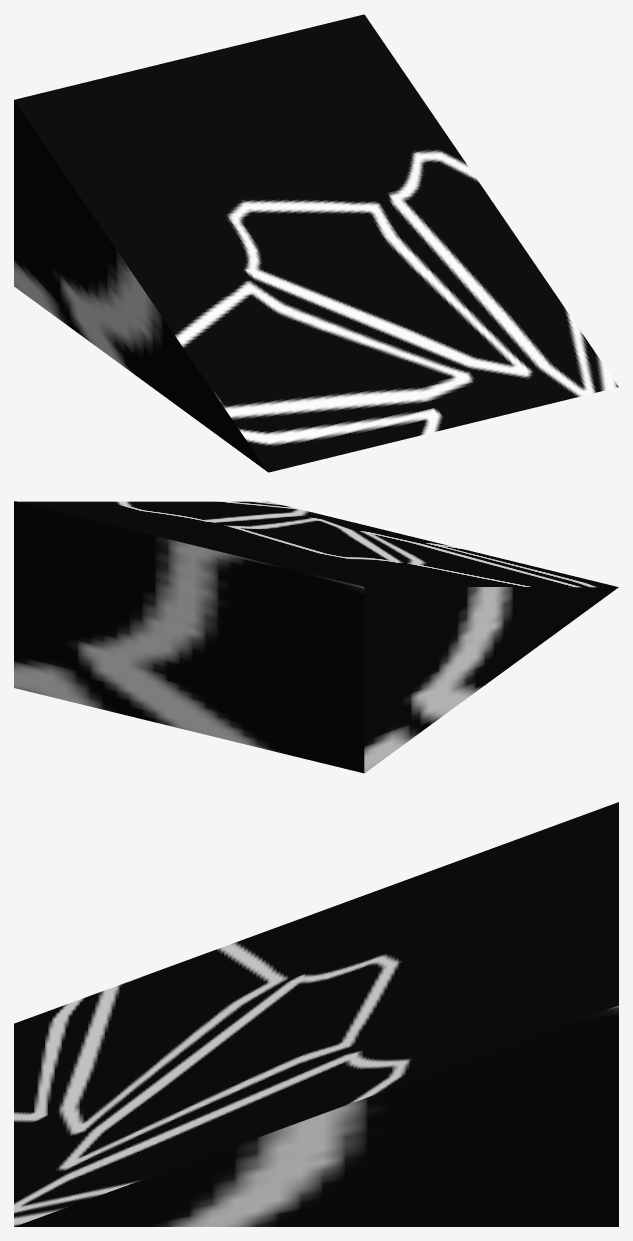
3 renders of one model, top to bottom at view 1: azimuth 30°, elevation 25°; view 2: azimuth 150°, elevation 25°; view 3: azimuth 270°, elevation 25°, orthographic. The views are drawn at different scales.
Visible parts, largest first — view 1: 12; view 2: 12; view 3: 12.
Part boxes in pixels (x1,y1,x2,y2): 12: (14, 14, 618, 472); 12: (14, 501, 618, 773); 12: (14, 802, 618, 1226).
Size of the model in its own units: 606 by 762 by 308.
